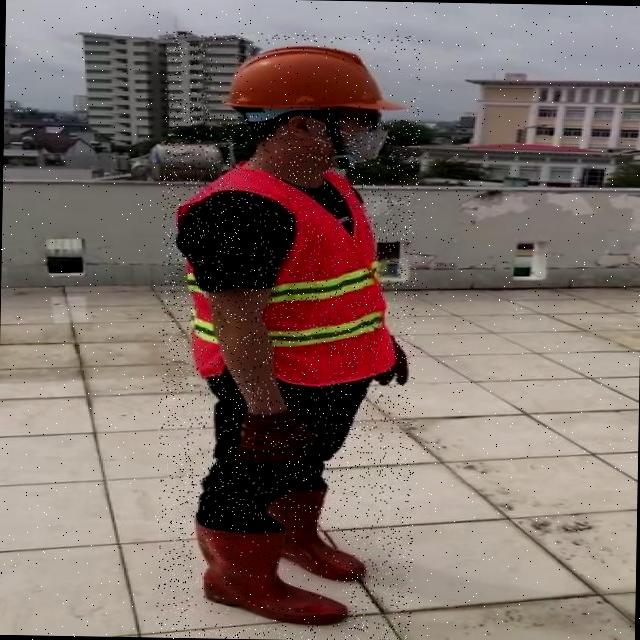boots: (192, 520, 351, 626), (276, 483, 372, 579)
helmet: (211, 40, 414, 119)
vest: (182, 172, 397, 384)
